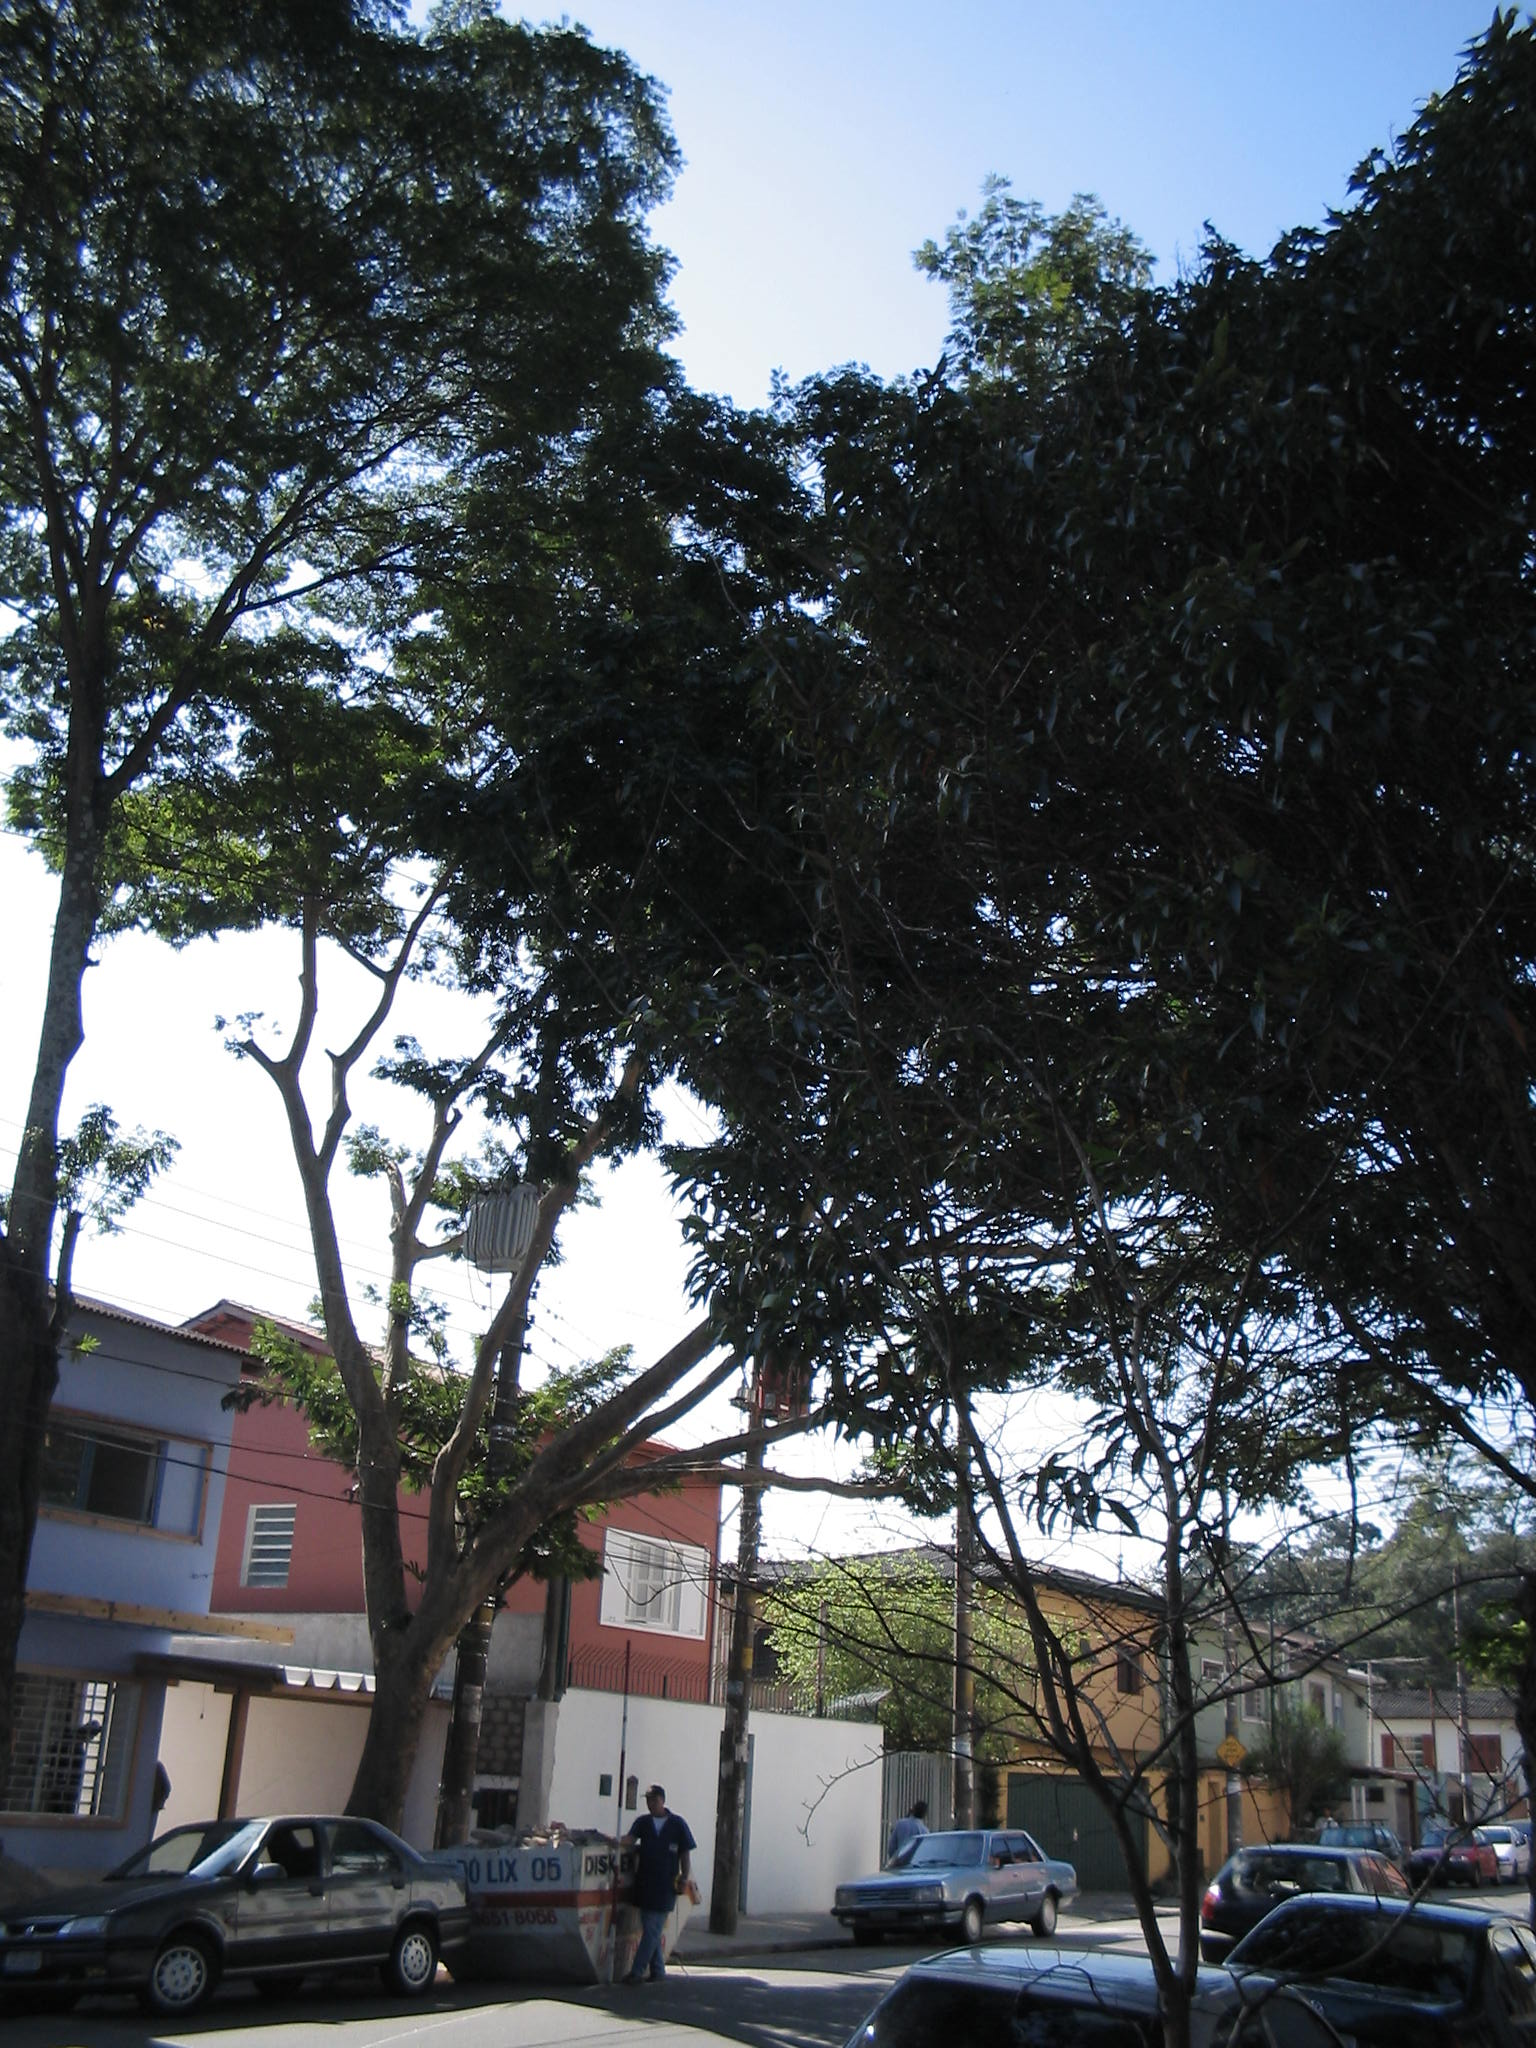crown: (21, 381, 1096, 1477), (6, 10, 713, 632)
stem: (6, 797, 140, 1959), (300, 1651, 442, 1967)
stick: (591, 1630, 637, 1975)
tree: (13, 373, 1099, 1972), (3, 6, 721, 1959)
